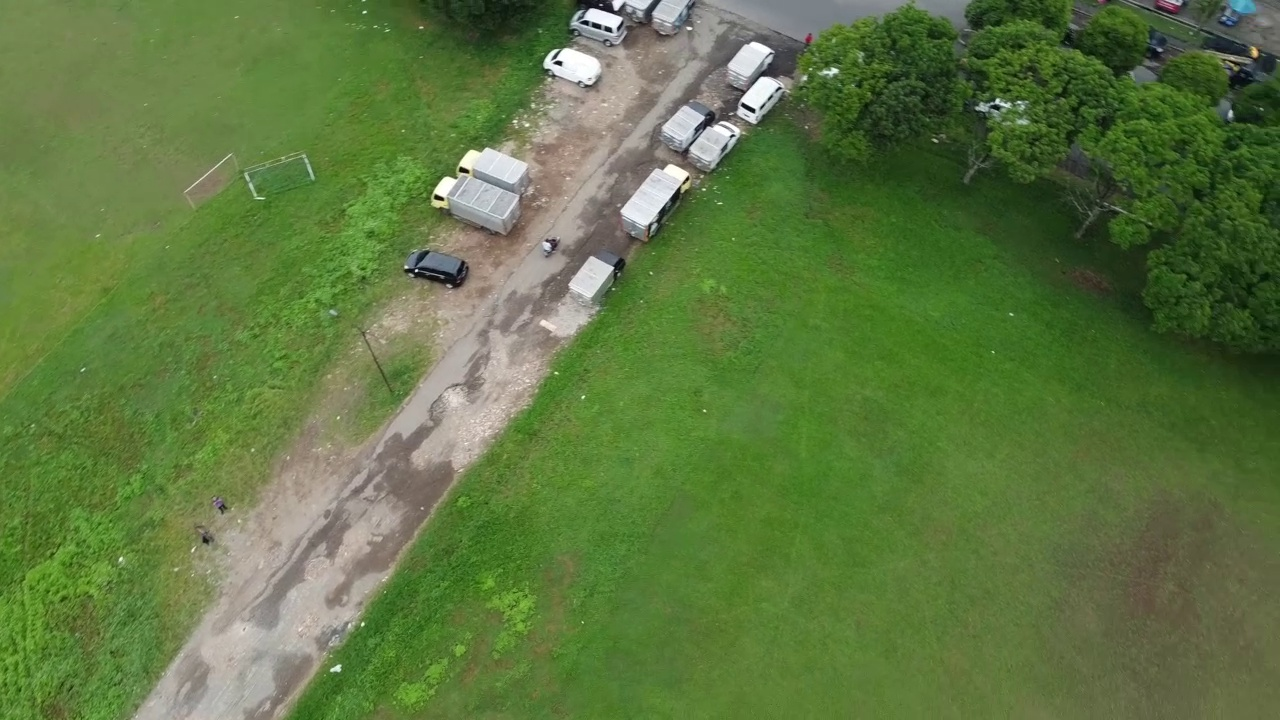mobil: (392, 239, 477, 291), (730, 75, 791, 124), (567, 7, 634, 48), (542, 44, 602, 88)
